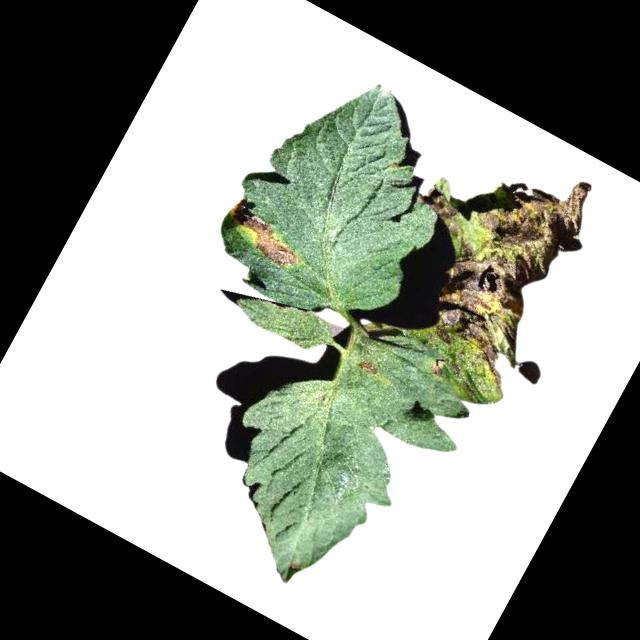Early_blight: (347, 113, 611, 406), (211, 186, 317, 277), (356, 355, 381, 377)
